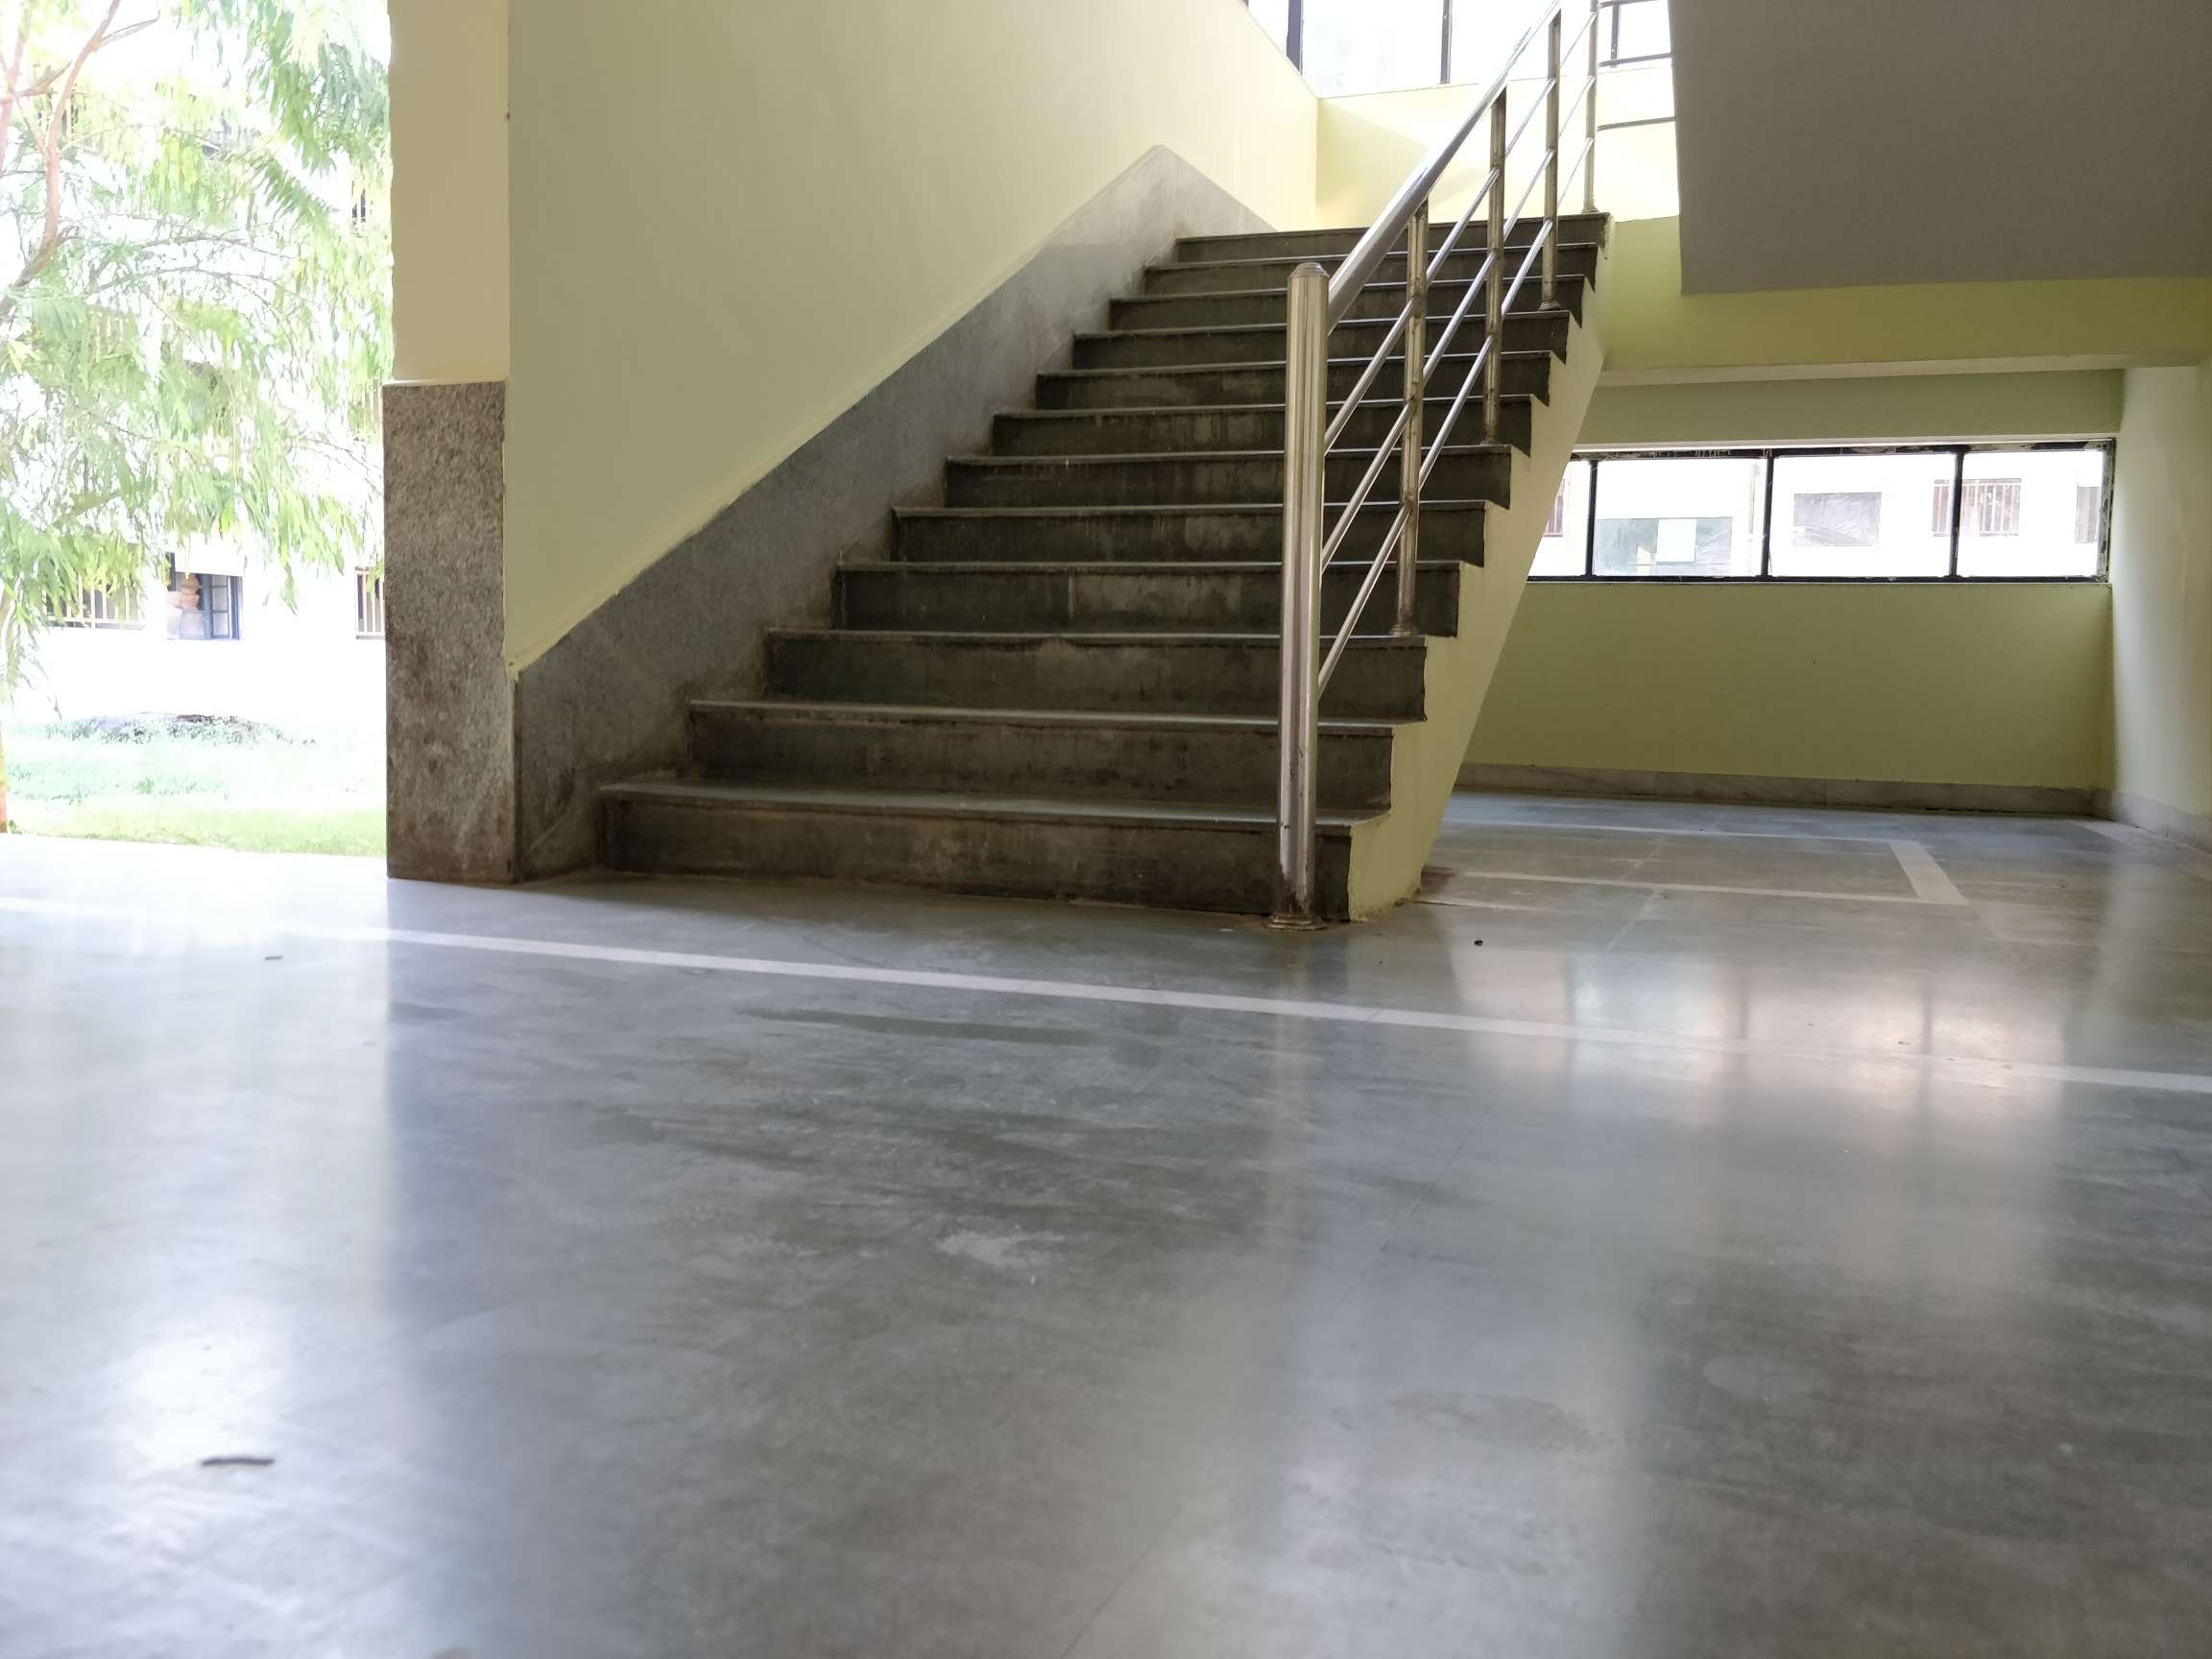stairs_up: (583, 216, 1588, 904)
